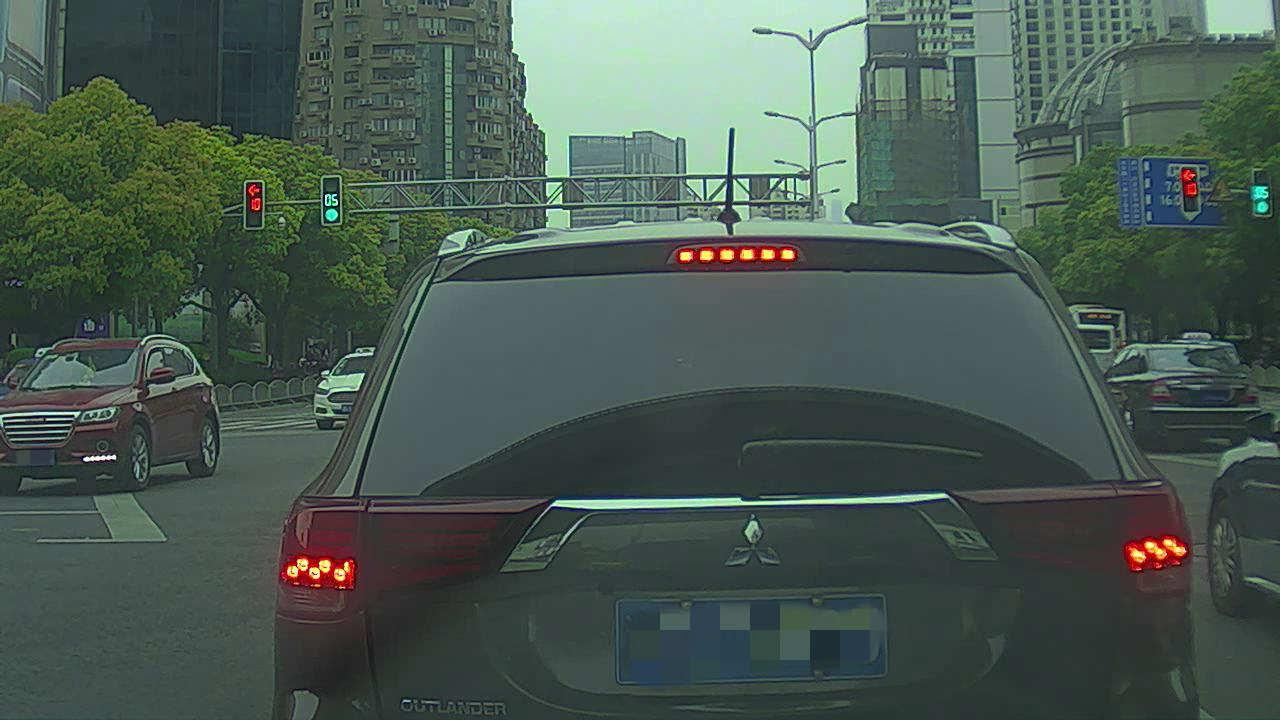traffic_light: (318, 175, 344, 227), (245, 177, 268, 229), (1252, 168, 1274, 218), (1179, 168, 1201, 213)
